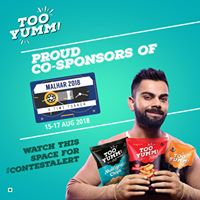plastic: (131, 138, 166, 177), (101, 136, 126, 187), (169, 140, 189, 181)
tooyumm: (13, 9, 68, 42), (101, 146, 123, 164), (137, 147, 164, 158), (170, 152, 191, 163)
